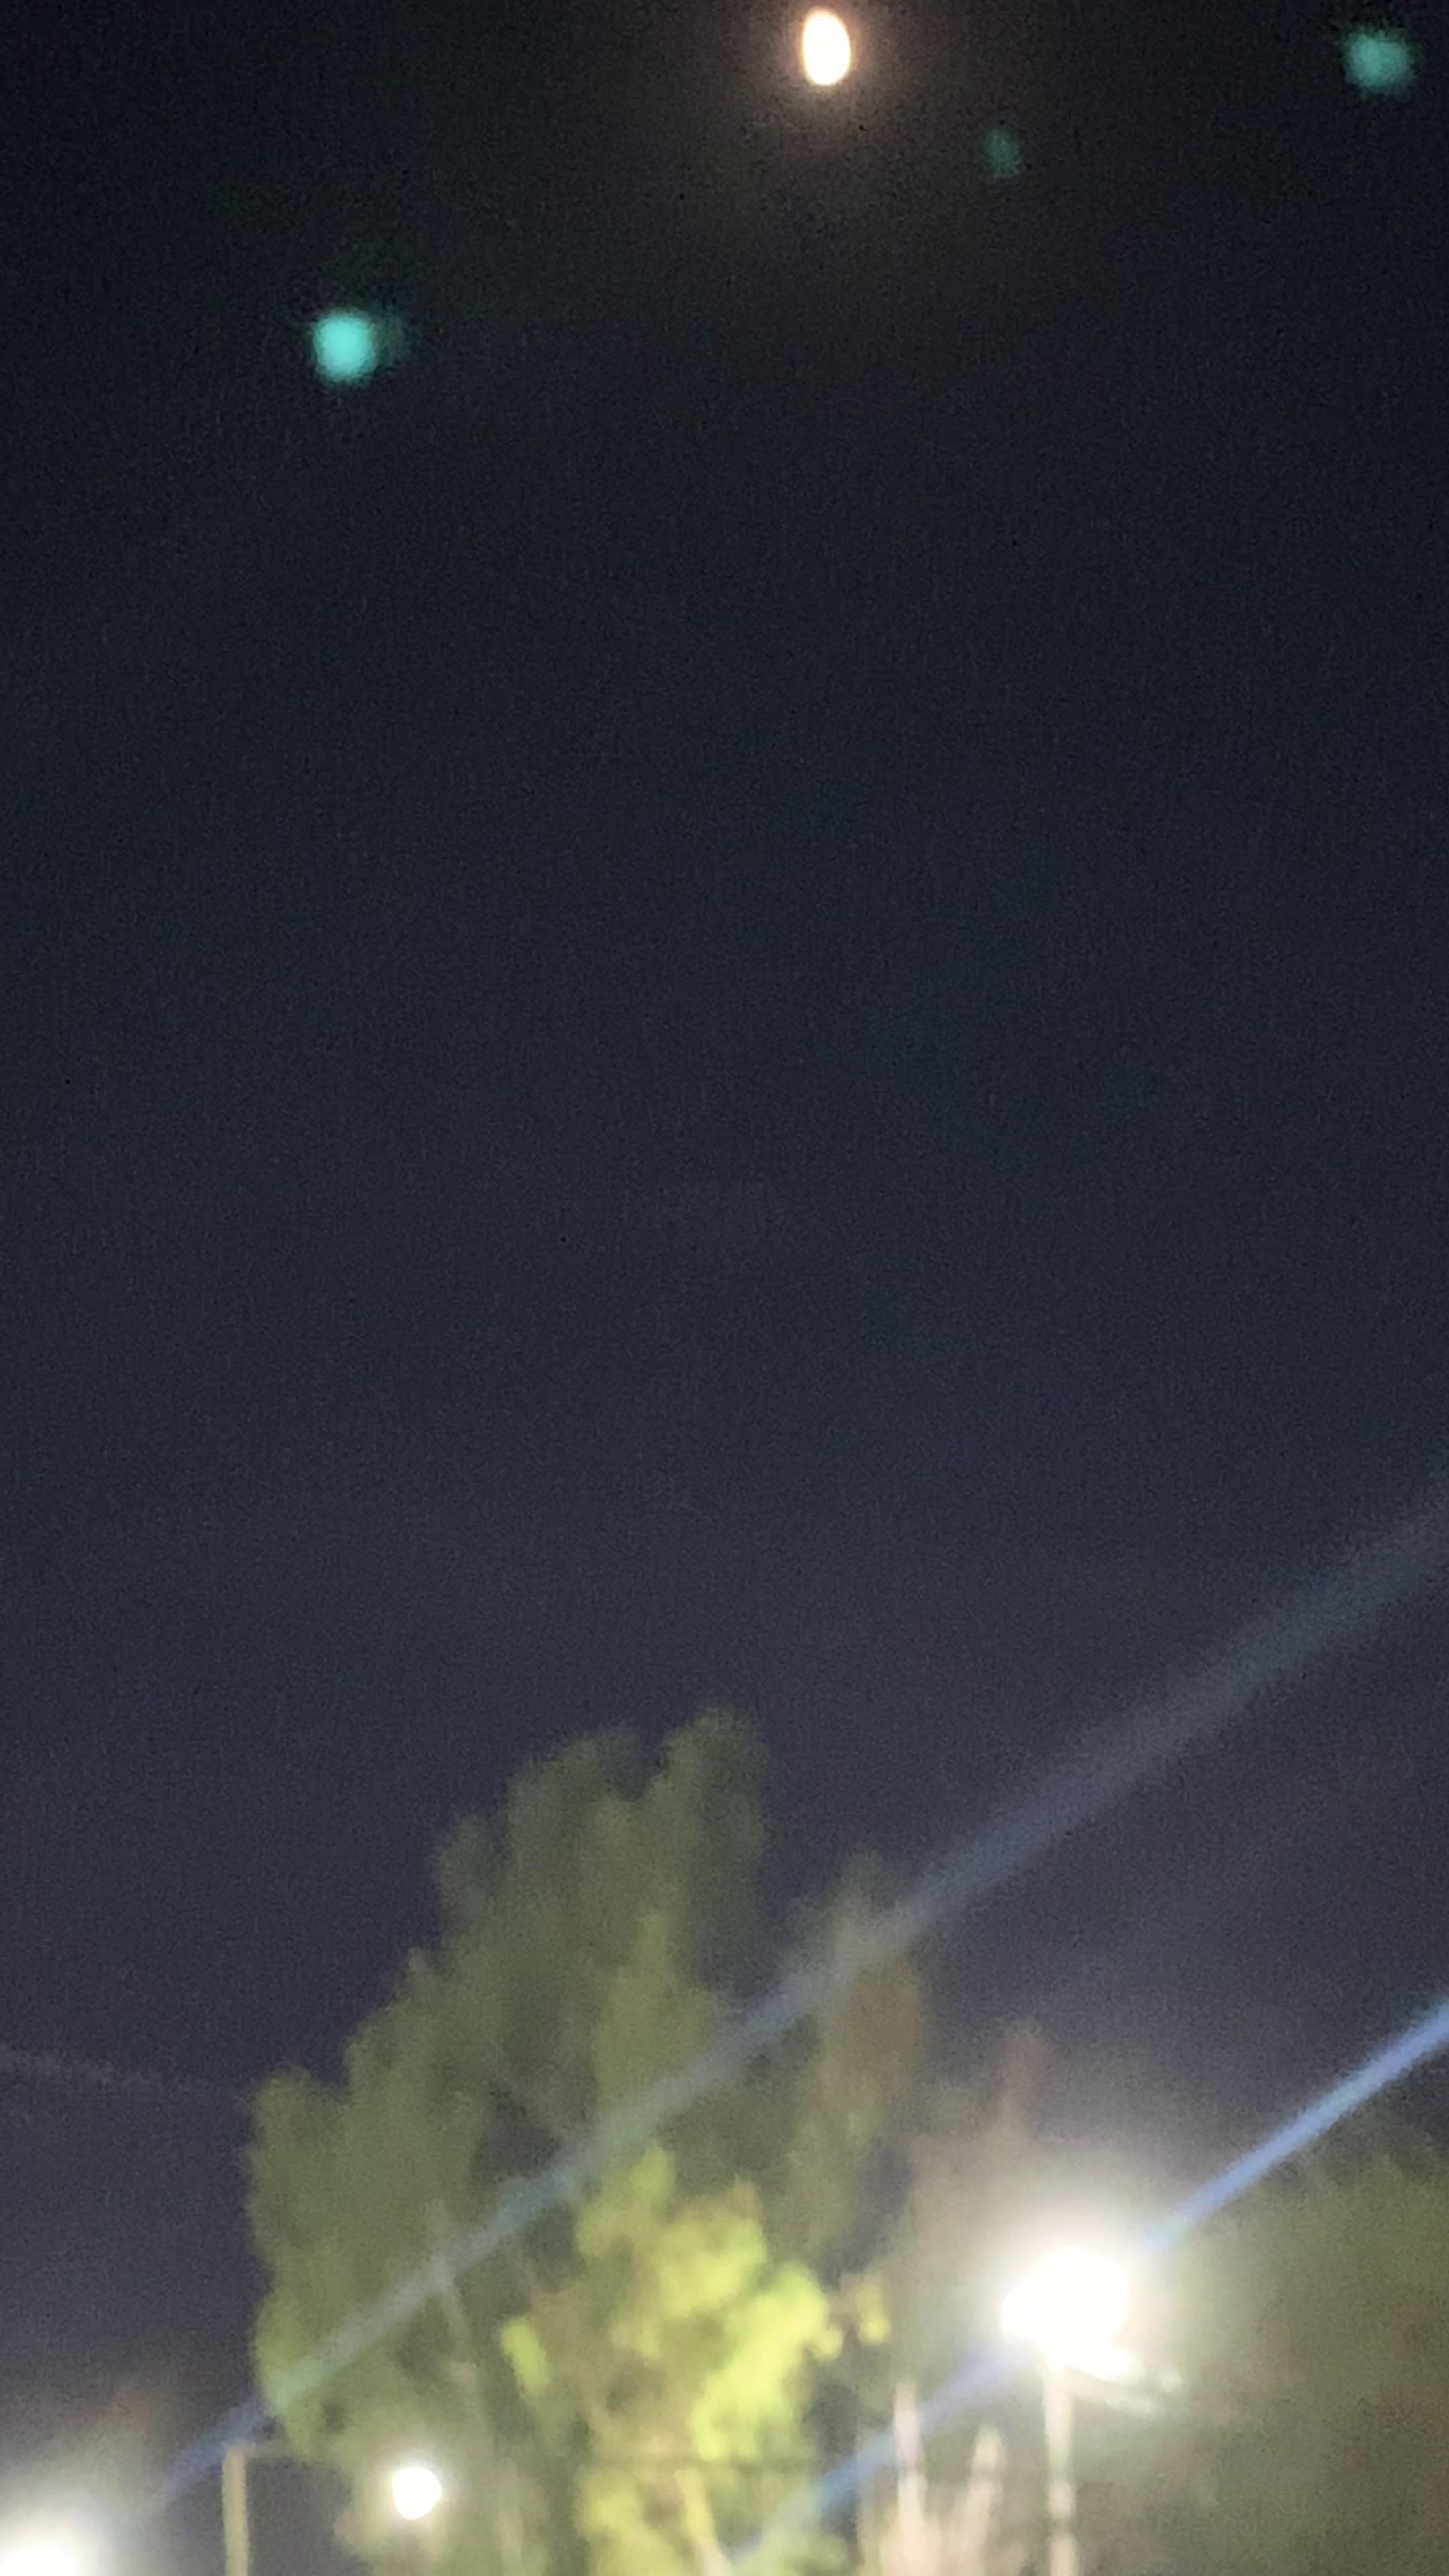moon: (757, 5, 890, 115)
